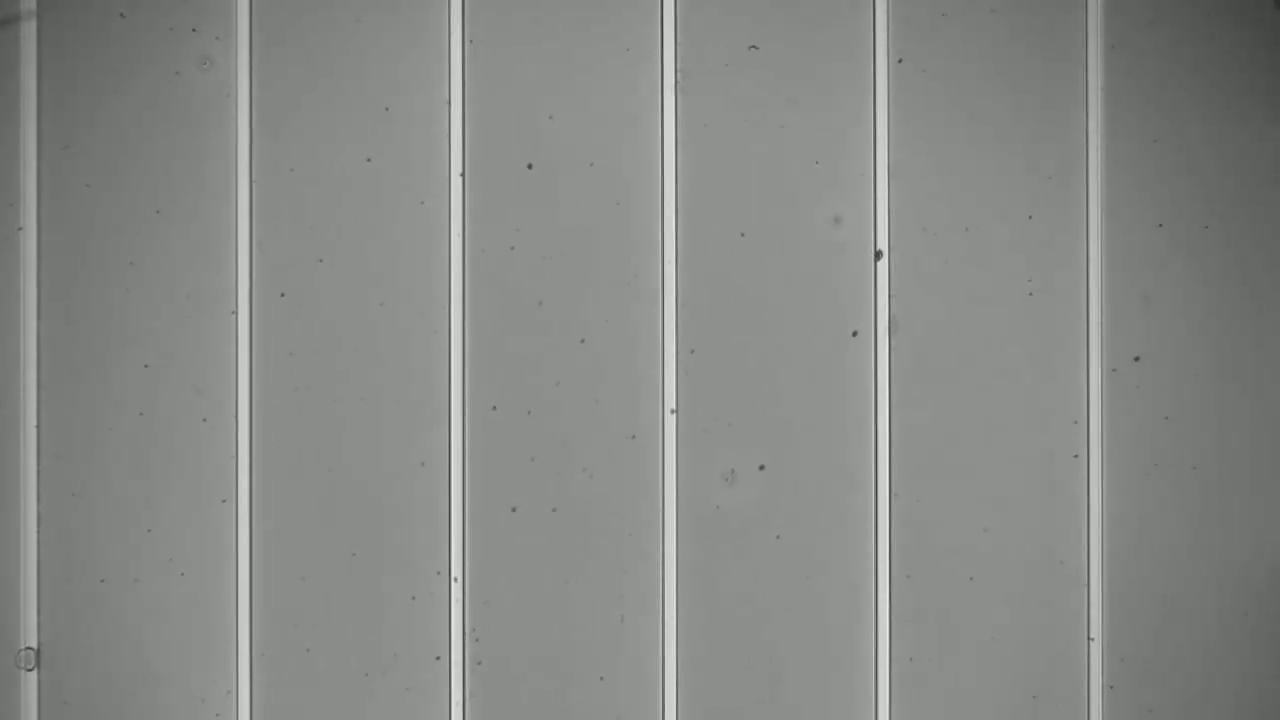stains_enbedded: (869, 245, 896, 266)
